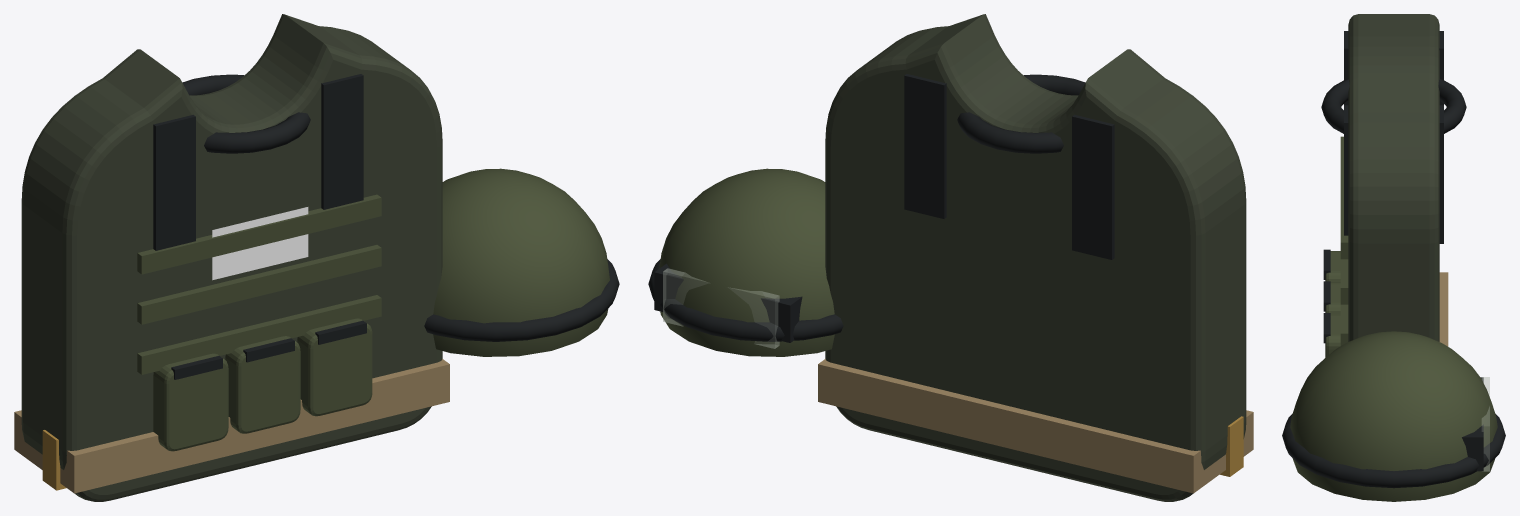
File: armor.glb
The picture shows the model from 3 angles, left to right: view 1: azimuth 30°, elevation 25°; view 2: azimuth 150°, elevation 25°; view 3: azimuth 270°, elevation 25°; orthographic projection. The views are drawn at different scales.
Visible parts, largest first — view 1: armor; view 2: armor; view 3: armor.
Part boxes in pixels (<box>): armor: <box>14,14,619,501</box>; armor: <box>648,14,1253,501</box>; armor: <box>1282,14,1505,501</box>.
Bounding box in the file's own units: 0.704 × 0.4832 × 0.268.
